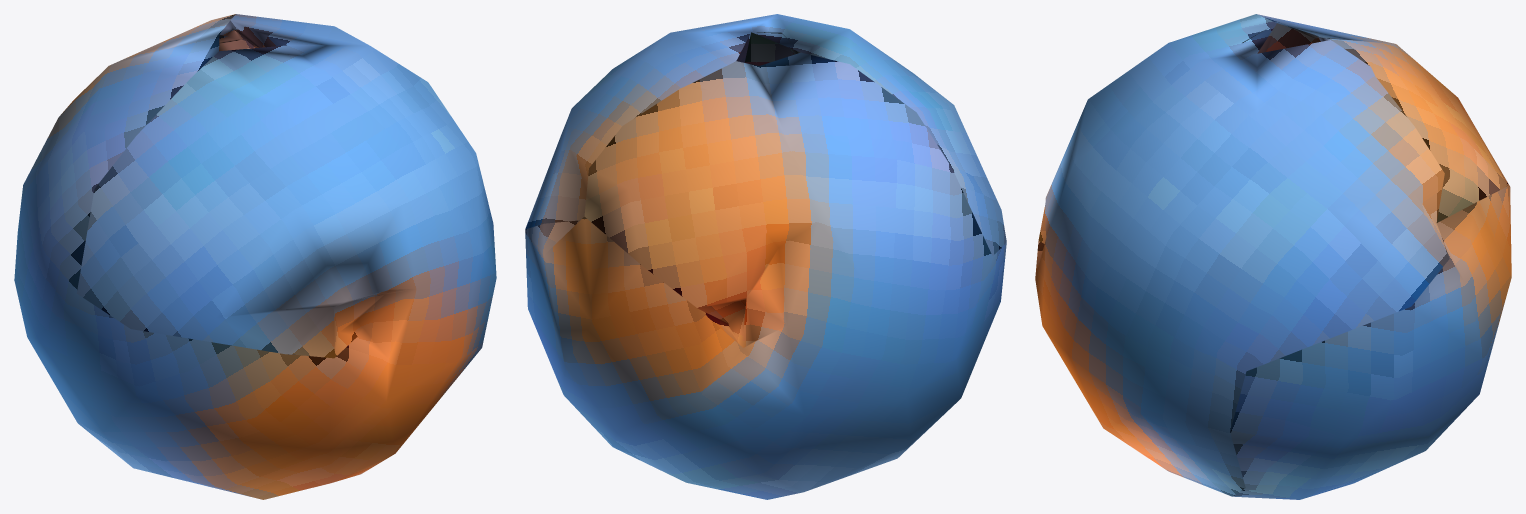
The model's file is Toys_R_Us_Treat_Dispenser_Smart_Puzzle_Foobler-low.glb.
3 views of the same model, side by side, from view 1: azimuth 30°, elevation 25°; view 2: azimuth 150°, elevation 25°; view 3: azimuth 270°, elevation 25° (orthographic).
Visible parts, largest first — view 1: Toys_R_Us_Treat_Dispenser_Smart_Puzzle_Foobler; view 2: Toys_R_Us_Treat_Dispenser_Smart_Puzzle_Foobler; view 3: Toys_R_Us_Treat_Dispenser_Smart_Puzzle_Foobler.
Boxes of the visible parts, left/top/right/bottom form: Toys_R_Us_Treat_Dispenser_Smart_Puzzle_Foobler: left=14, top=14, right=496, bottom=499; Toys_R_Us_Treat_Dispenser_Smart_Puzzle_Foobler: left=525, top=14, right=1006, bottom=499; Toys_R_Us_Treat_Dispenser_Smart_Puzzle_Foobler: left=1035, top=14, right=1511, bottom=499.
Size of the model in its own units: 0.1524 by 0.1519 by 0.1508.
Materials: 1 (1 with a texture image).
